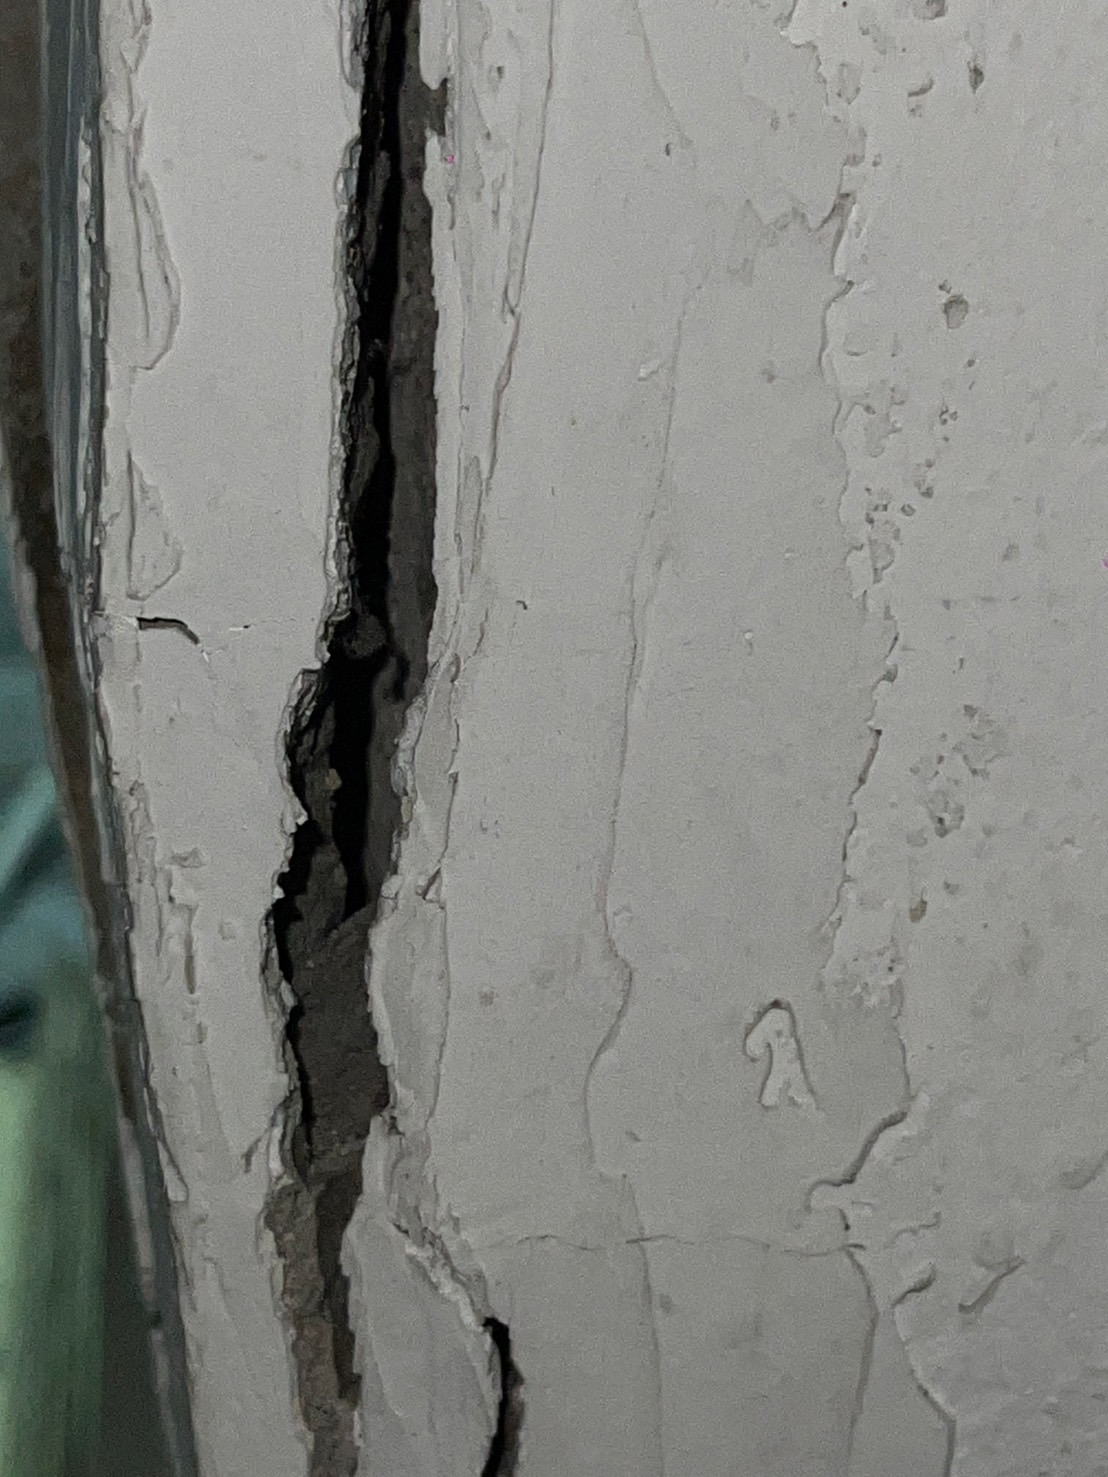High: (237, 3, 557, 1474)
